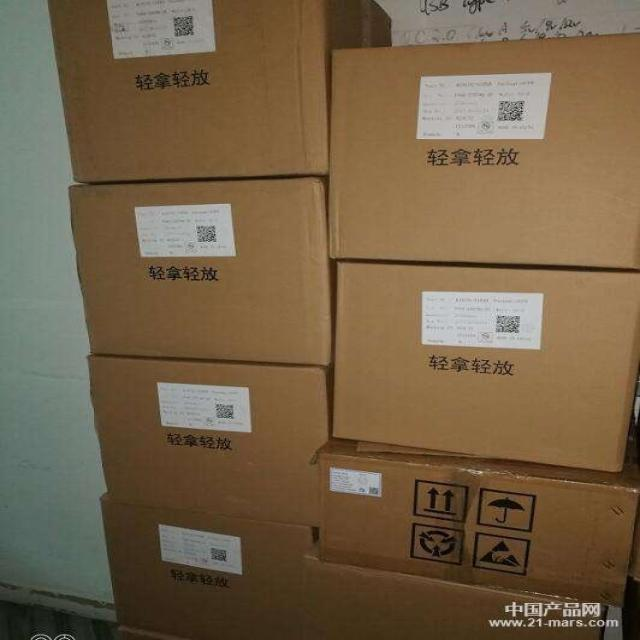box: (330, 29, 640, 271), (332, 262, 640, 473), (48, 0, 395, 181), (312, 438, 640, 607), (69, 178, 334, 364), (89, 353, 331, 527), (101, 497, 314, 640), (303, 542, 606, 640)
